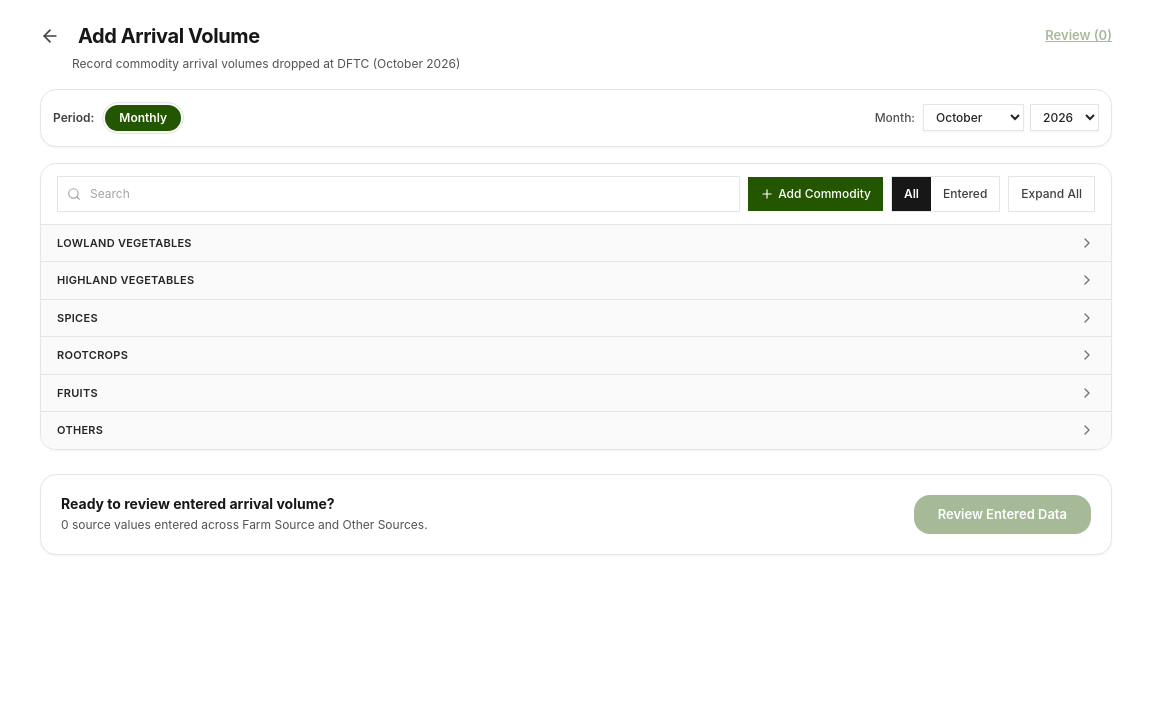
Scenario: DFTCArrivalInput a commodity added at runtime lands in a category the grid renders › shows the new commodity instead of filing it where nothing renders it
Click the button "Add Commodity" at (816, 194), box x1=748 y1=176 x2=883 y2=210
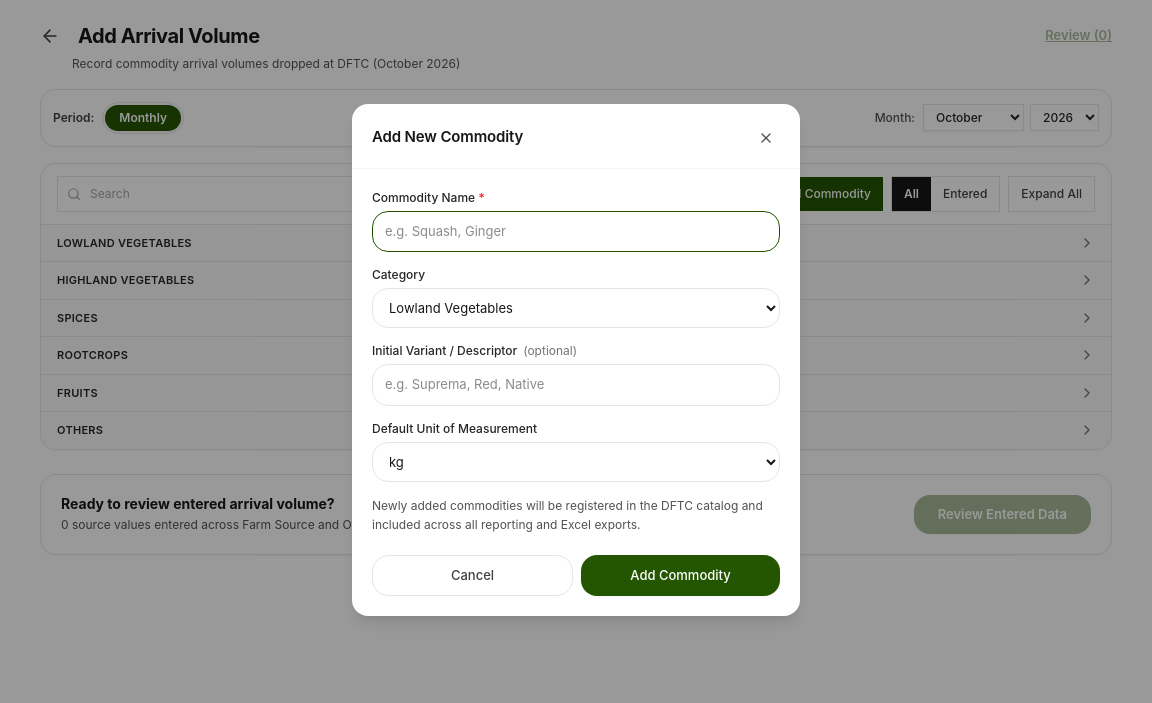
// No category is picked: the default category is the one that was broken.
Type "Satsuma" into the field with placeholder "e.g. Squash, Ginger" at (576, 232), box x1=372 y1=211 x2=780 y2=252
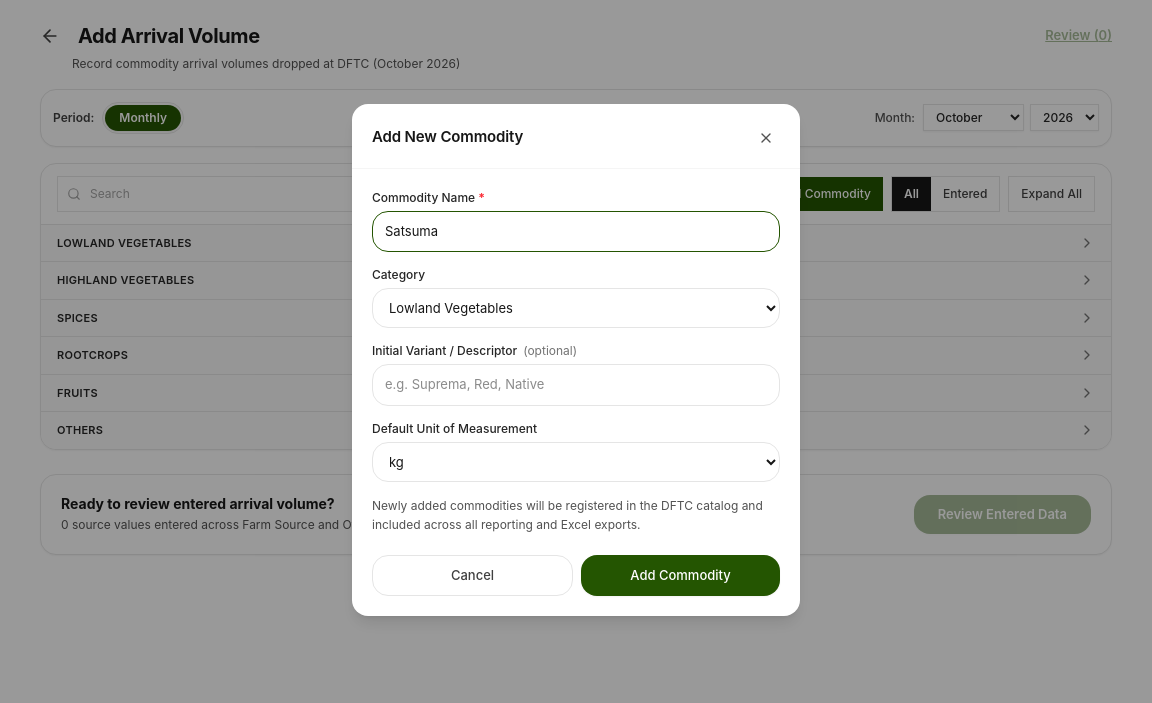
Click the button "Add Commodity" at (680, 576), box x1=581 y1=555 x2=780 y2=596
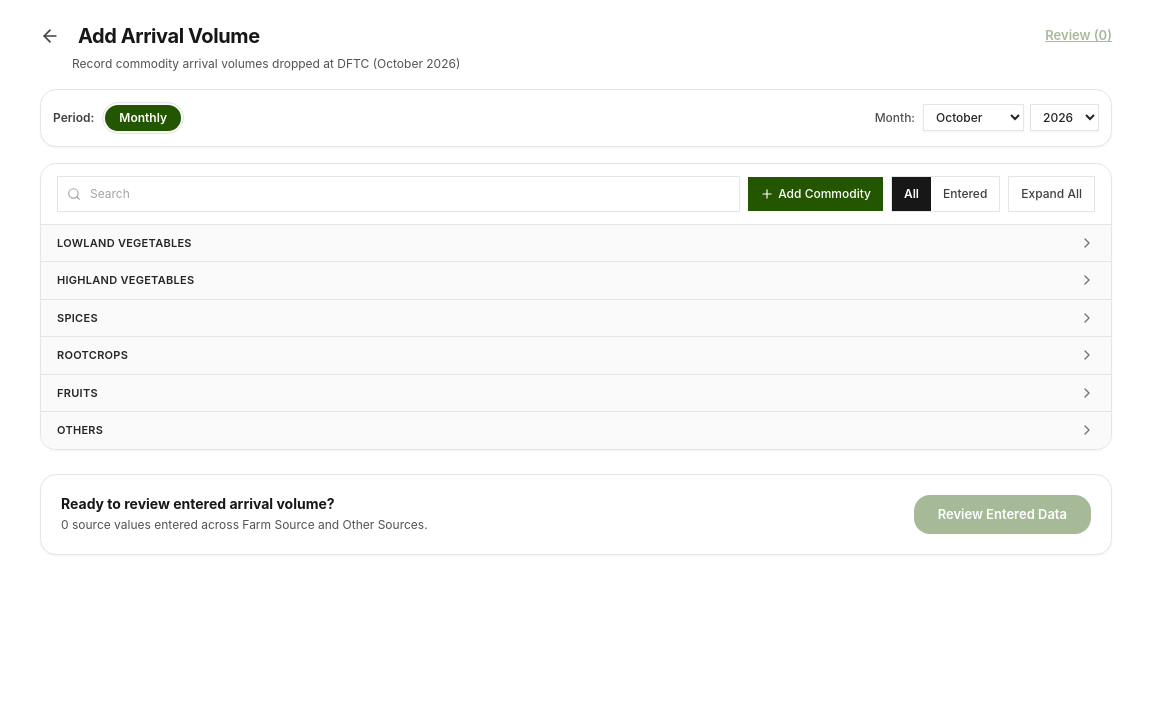
Click the button "Lowland Vegetables" at (124, 242), box x1=41 y1=224 x2=1111 y2=261
(page scrolled)
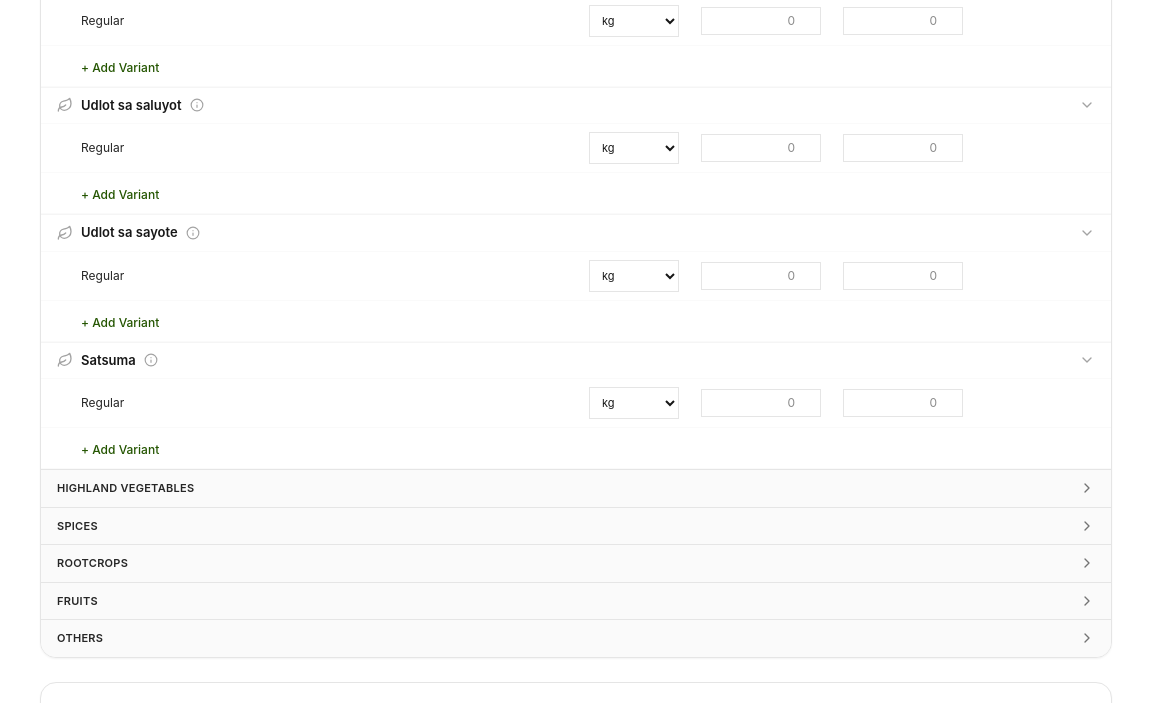
Check: the text "Satsuma" is shown, box x1=81 y1=350 x2=136 y2=370
